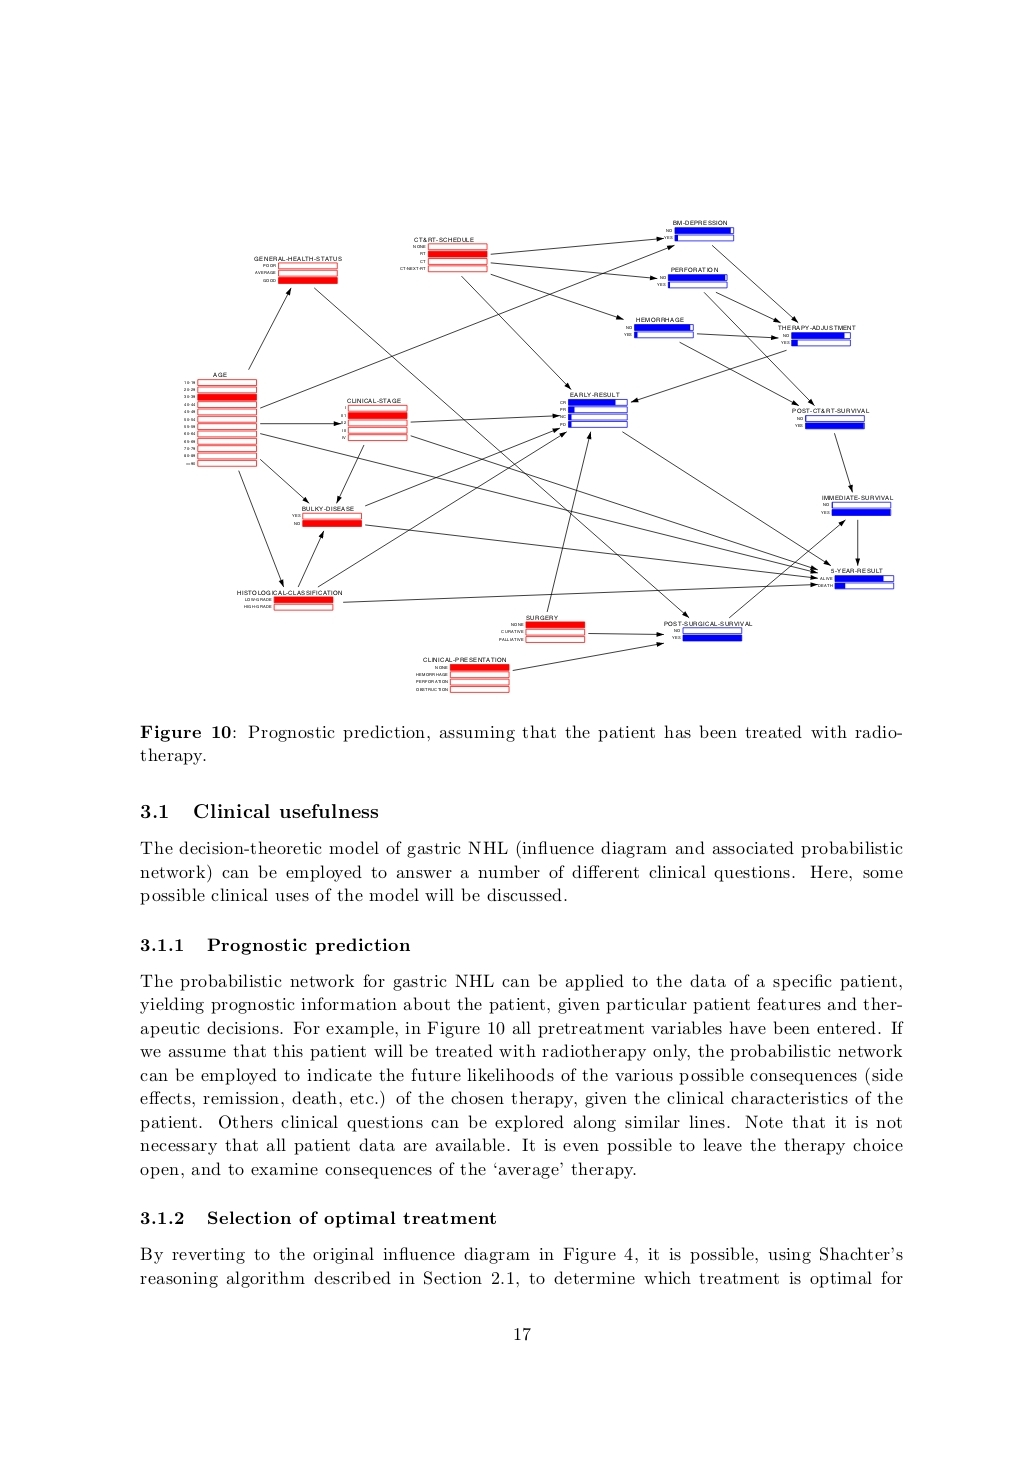figure: (184, 219, 893, 693)
